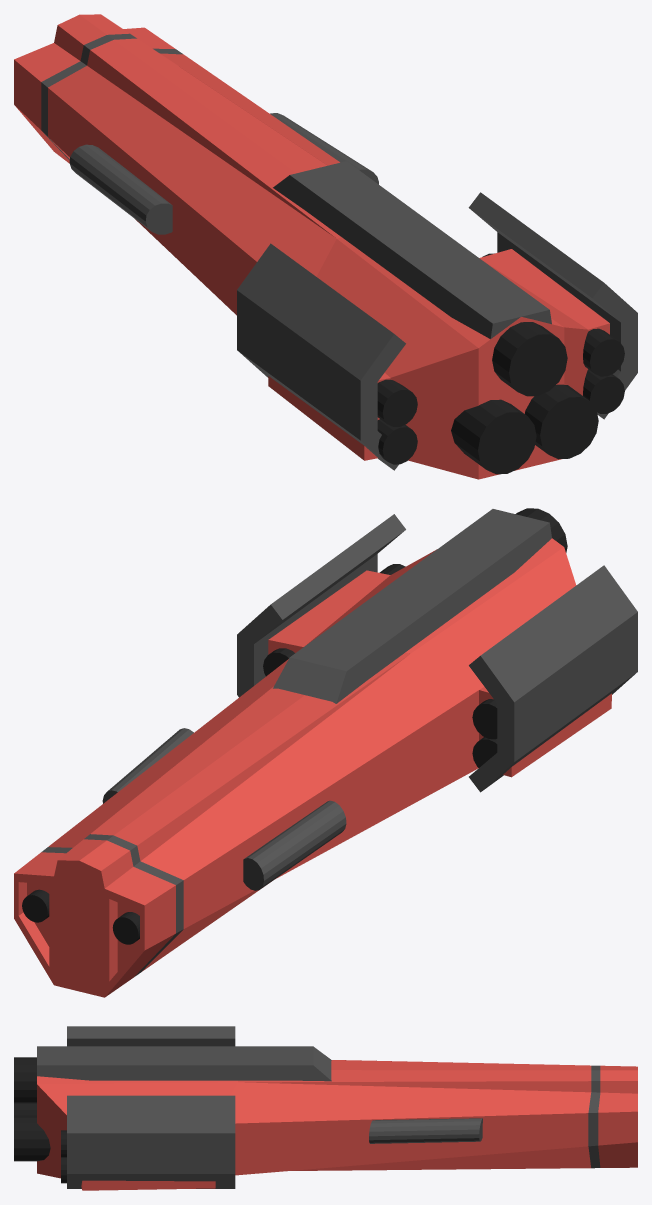
File: cruiser.glb
3 renders of one model, top to bottom at view 1: azimuth 30°, elevation 25°; view 2: azimuth 150°, elevation 25°; view 3: azimuth 270°, elevation 25°, orthographic. The views are drawn at different scales.
Visible parts, largest first — view 1: Cube, Cube.002, Cube.001, Cylinder.004, Cylinder, Cylinder.002, Cylinder.003; view 2: Cube, Cube.002, Cube.001, Cylinder.002, Cylinder, Cylinder.001; view 3: Cube, Cube.002, Cube.001, Cylinder.002, Cylinder.004, Cylinder.003, Cylinder.
Part boxes in pixels (box(x1,y1,x2,y2)): Cube: box(14, 14, 609, 479); Cube.002: box(237, 192, 637, 470); Cube.001: box(273, 161, 551, 339); Cylinder.004: box(451, 384, 598, 474); Cylinder: box(377, 253, 624, 464); Cylinder.002: box(69, 113, 378, 234); Cylinder.003: box(492, 322, 567, 396); Cube: box(14, 538, 611, 997); Cube.002: box(237, 514, 637, 792); Cube.001: box(273, 509, 551, 703); Cylinder.002: box(102, 728, 346, 890); Cylinder: box(263, 564, 497, 767); Cylinder.001: box(22, 889, 139, 944); Cube: box(37, 1060, 637, 1190); Cube.002: box(67, 1026, 235, 1188); Cube.001: box(37, 1046, 331, 1081); Cylinder.002: box(369, 1118, 482, 1143); Cylinder.004: box(14, 1103, 50, 1161); Cylinder.003: box(14, 1057, 36, 1103); Cylinder: box(61, 1130, 66, 1183).
Bounding box in the file's own units: 9.46 × 4.96 × 27.1.
